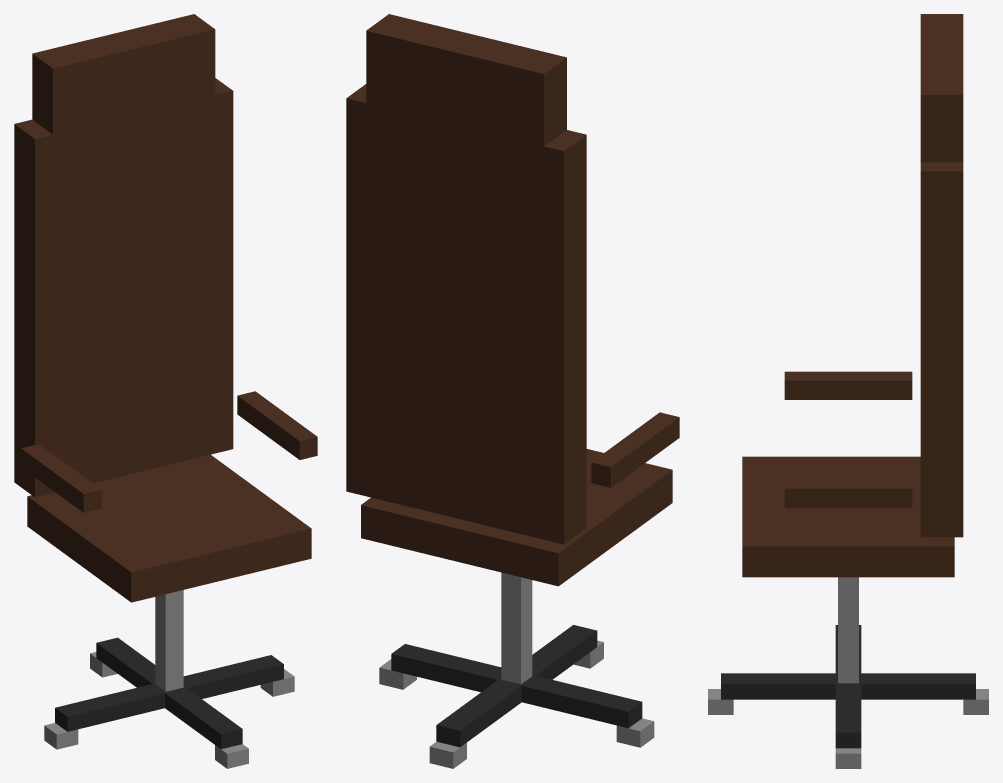
Rendered from office_chair_boss.glb.
3 views of the same model, side by side, from view 1: azimuth 30°, elevation 25°; view 2: azimuth 150°, elevation 25°; view 3: azimuth 270°, elevation 25° (orthographic). The views are drawn at different scales.
Visible parts, largest first — view 1: office_chair_boss; view 2: office_chair_boss; view 3: office_chair_boss.
Boxes of the visible parts, x1=… form: office_chair_boss: x1=14, y1=14, x2=317, y2=768; office_chair_boss: x1=346, y1=14, x2=679, y2=768; office_chair_boss: x1=708, y1=14, x2=988, y2=768.
Size of the model in its own units: 0.66 by 1.7 by 0.66.
